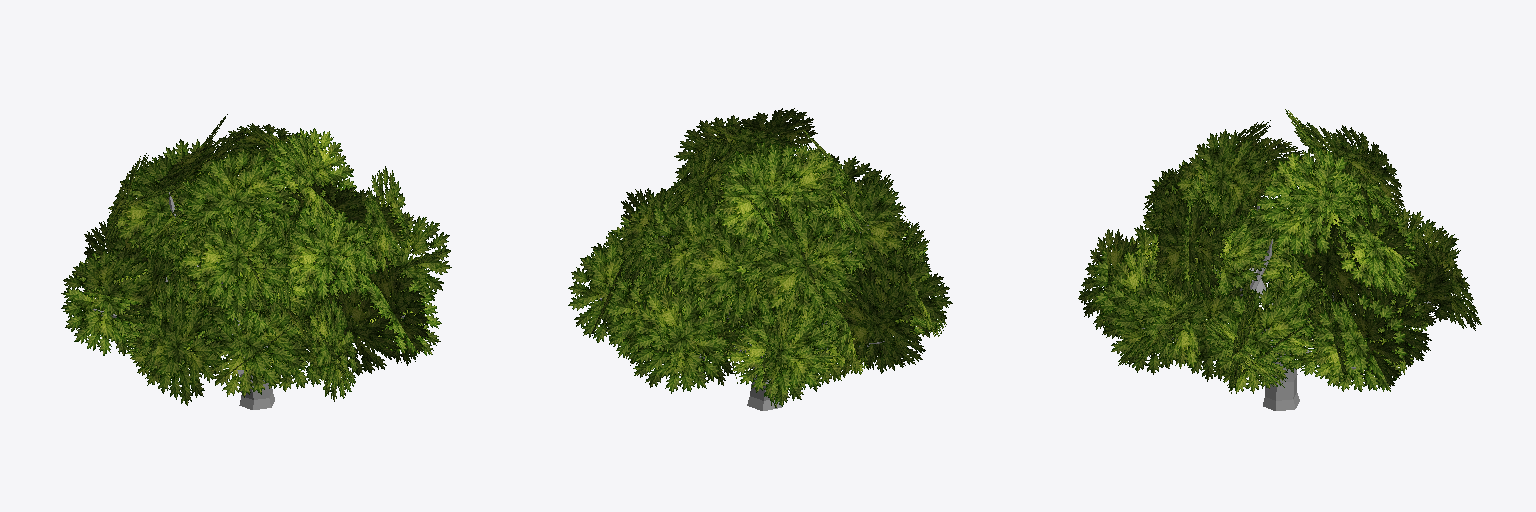
3 renders of one model, left to right at view 1: azimuth 30°, elevation 25°; view 2: azimuth 150°, elevation 25°; view 3: azimuth 270°, elevation 25°, orthographic.
Visible parts, largest first — view 1: mesh1_mesh1.005, mesh0_mesh0.005; view 2: mesh1_mesh1.005, mesh0_mesh0.005; view 3: mesh1_mesh1.005, mesh0_mesh0.005.
Part boxes in pixels (x1,y1,x2,y2): mesh1_mesh1.005: (61,114,451,405); mesh0_mesh0.005: (93,192,404,409); mesh1_mesh1.005: (568,108,952,407); mesh0_mesh0.005: (600,225,930,410); mesh1_mesh1.005: (1078,109,1481,393); mesh0_mesh0.005: (1142,206,1445,410).
Bounding box in the file's own units: 551 × 408 × 548.
2 materials, 1 textured.